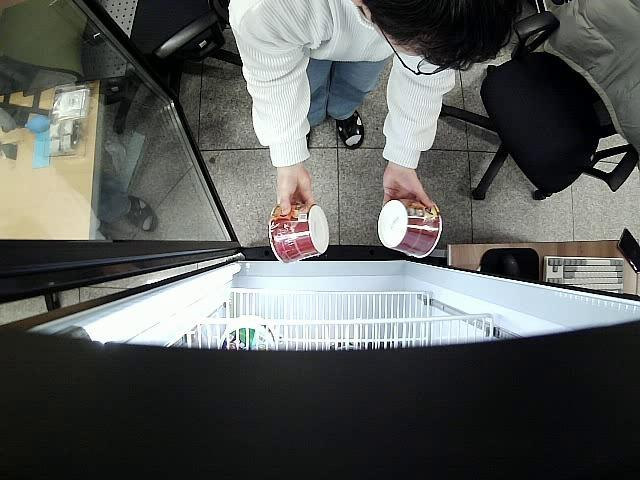05_nuguri_L: (378, 197, 442, 260), (268, 203, 329, 264)
